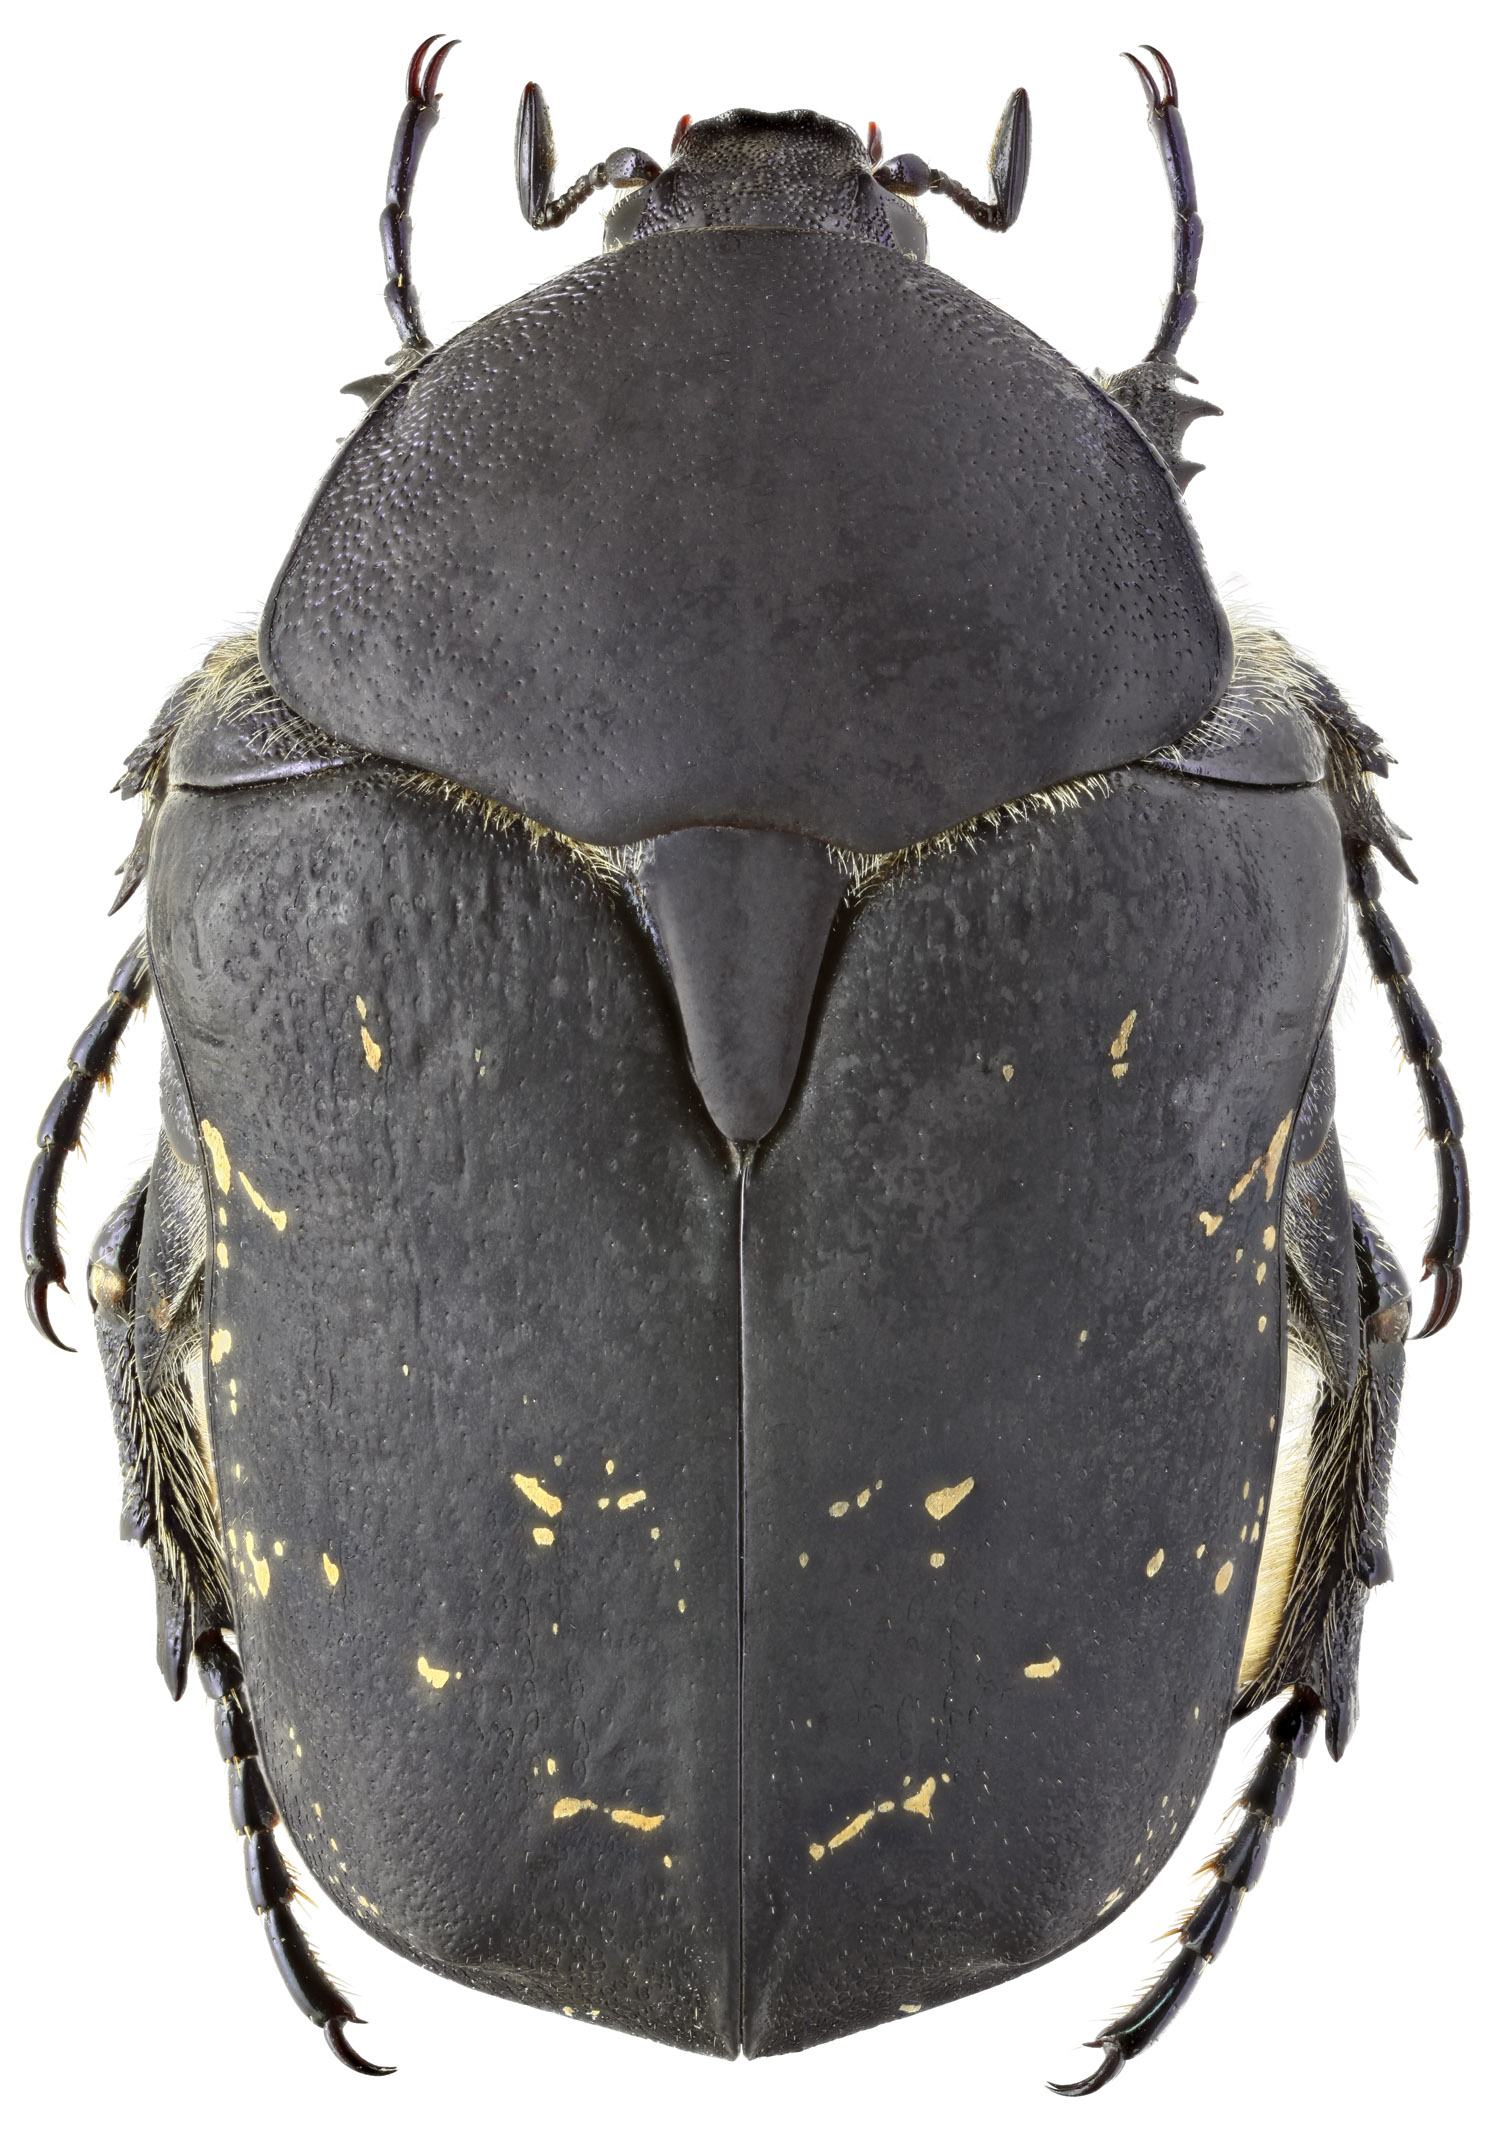Protaetia_afflicta: (28, 32, 1494, 2131)
